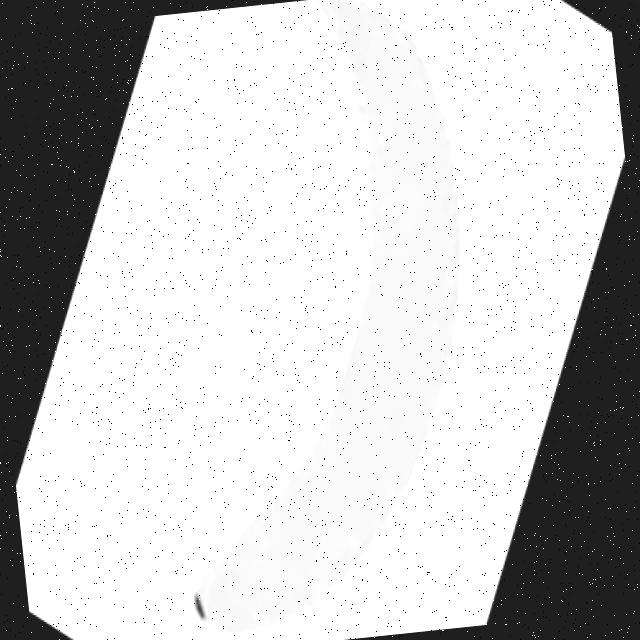banana: (131, 0, 506, 640)
